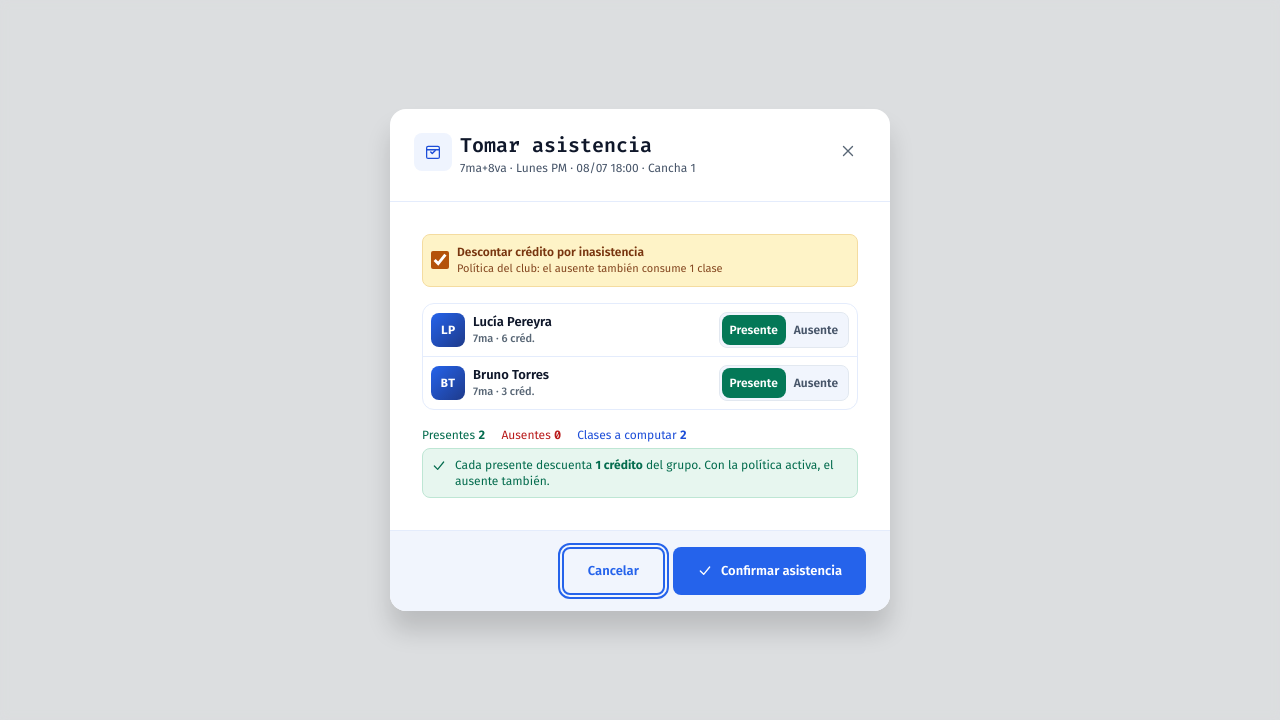
Scenario: AttendanceModalComponent › la política cambia el contador de clases a computar
Click the button with class "segp" in the row of "Bruno Torres": (816, 383) [786,368,846,398]
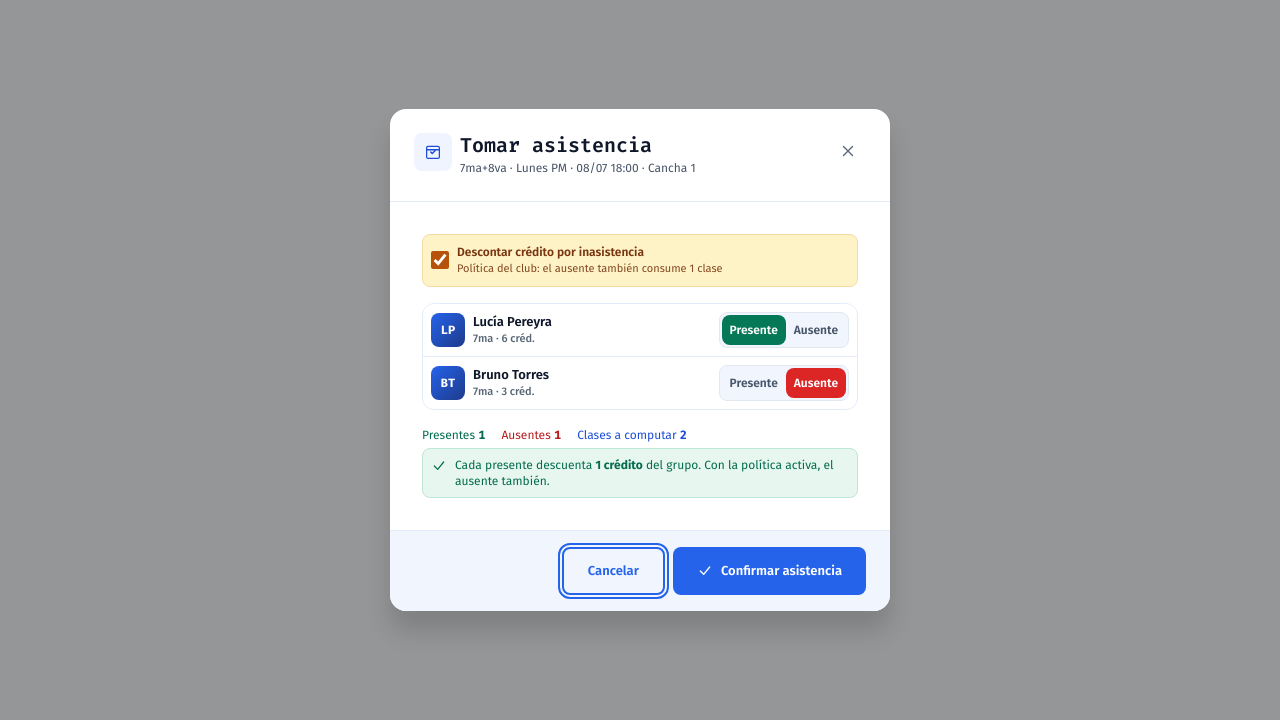
Check: the element with class "att-summary" shows "Clases a computar 2", box [422,427,687,443]
Click the checkbox: (440, 260) [431,251,449,269]
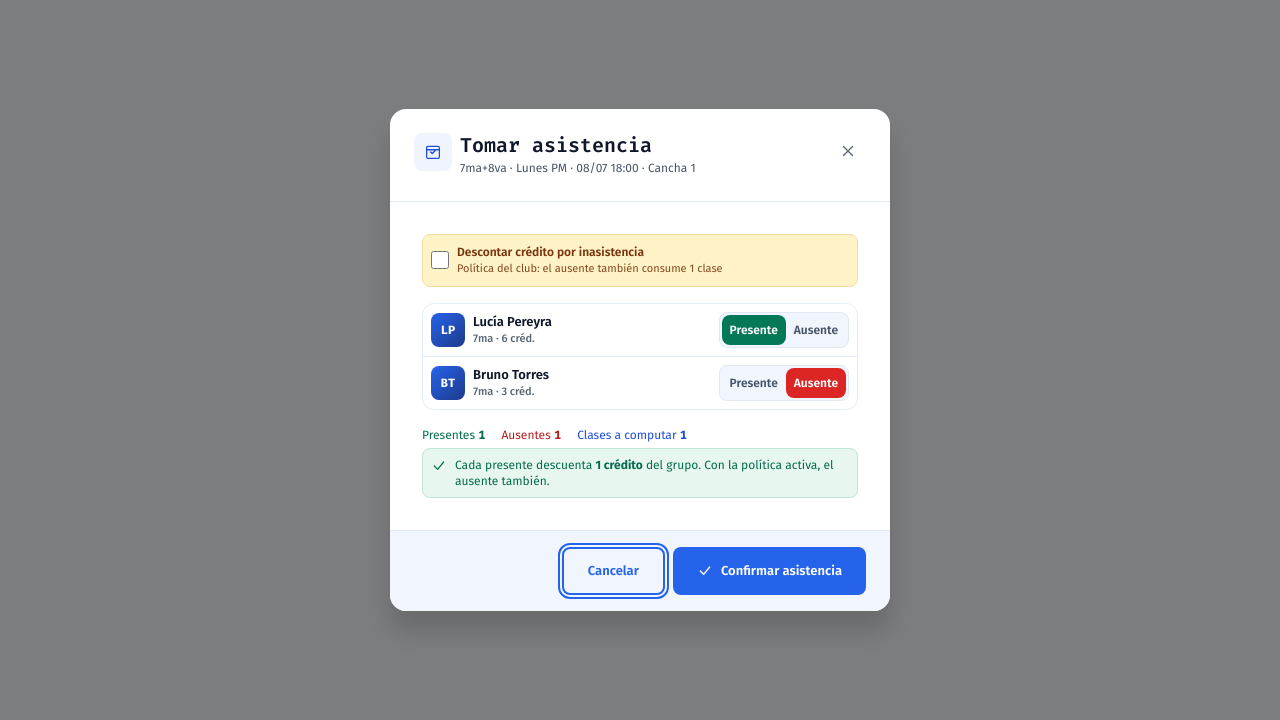
Check: the element with class "att-summary" shows "Clases a computar 1", box [422,427,687,443]
